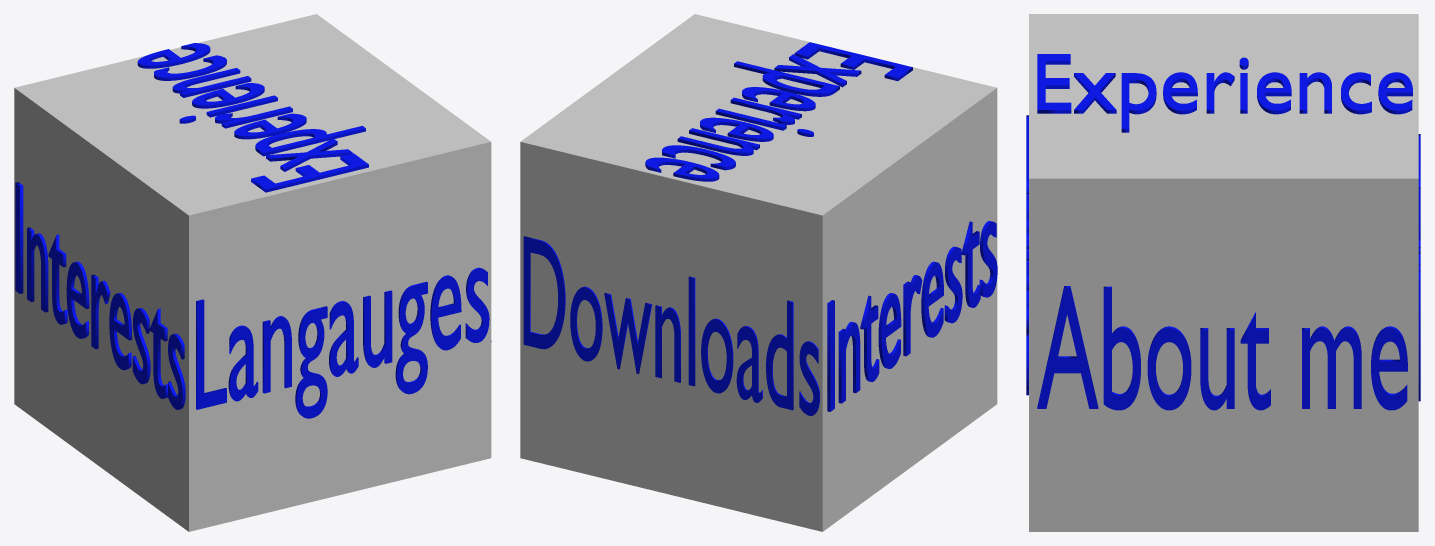
File: The_cube.glb
The picture shows the model from 3 angles, left to right: view 1: azimuth 30°, elevation 25°; view 2: azimuth 150°, elevation 25°; view 3: azimuth 270°, elevation 25°; orthographic projection. The views are drawn at different scales.
Parts seen in each view (by area): view 1: Cube, lang, Text, Links; view 2: Cube, Download, Text, Links; view 3: Cube, Text.001, Text, lang, Download.
Part boxes in pixels (box(x1,y1,x2,y2)): Cube: box(14, 14, 491, 531); lang: box(196, 267, 489, 418); Text: box(137, 43, 368, 192); Links: box(15, 182, 185, 409); Cube: box(520, 14, 997, 531); Download: box(523, 236, 819, 415); Text: box(645, 42, 912, 181); Links: box(827, 221, 997, 411); Cube: box(1029, 14, 1418, 531); Text.001: box(1037, 286, 1407, 410); Text: box(1037, 54, 1412, 132); lang: box(1026, 115, 1028, 395); Download: box(1418, 134, 1420, 401).
Bounding box in the file's own units: 2.05 × 2.04 × 2.02.
